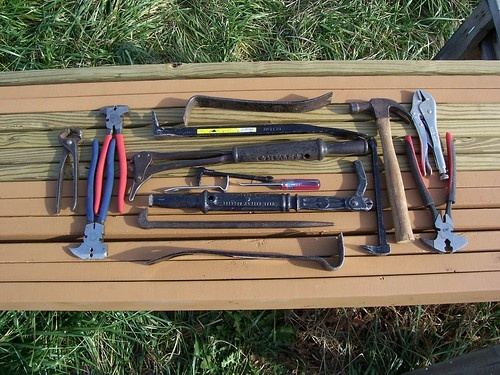hammer: (348, 97, 416, 244)
